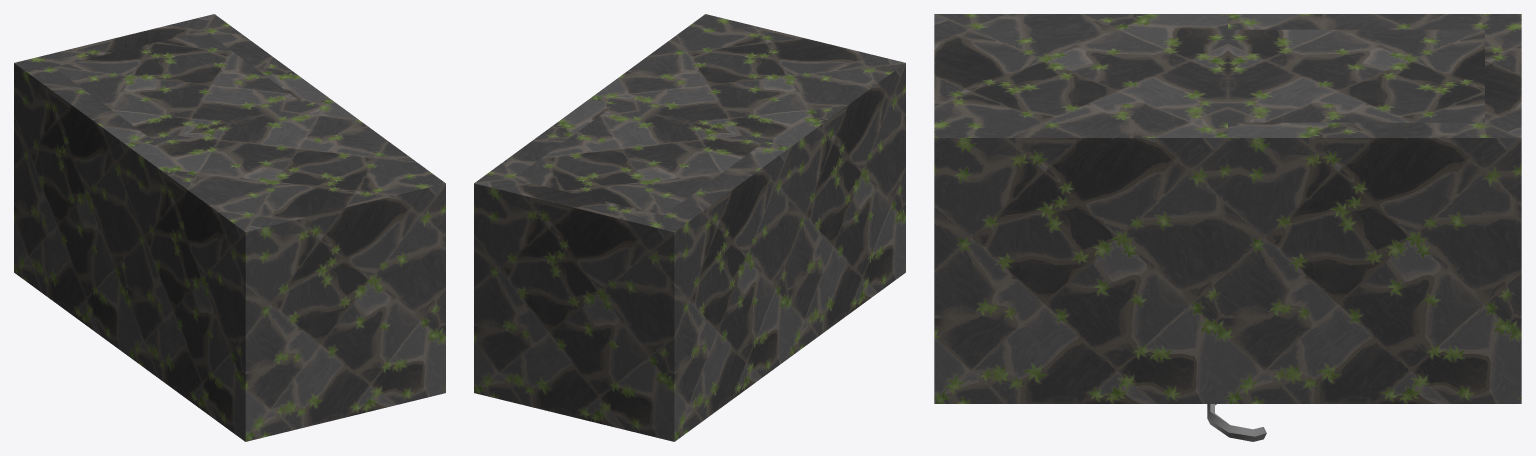
File: Trap_02_big.fbx
3 renders of one model, left to right at view 1: azimuth 30°, elevation 25°; view 2: azimuth 150°, elevation 25°; view 3: azimuth 270°, elevation 25°, orthographic. The views are drawn at different scales.
Parts seen in each view (by area): view 1: Object091, Cube_04_028, Cube_04_029, Cube_03_033, Cube_03_036, Cube_01_038, Cube_01_045, Cube_03_031, Cube_03_032, Cube_03_039, Cube_01_046, Cube_01_050 (+9 smaller); view 2: Object091, Cube_04_032, Cube_04_033, Cube_03_040, Cube_03_043, Cube_01_046, Cube_01_050, Cube_03_038, Cube_03_039, Cube_03_032, Cube_01_038, Cube_01_045 (+9 smaller); view 3: Object091, Cube_04_027, Cube_04_030, Cube_04_031, Cube_04_034, Cube_02_038, Cube_02_041, Cube_02_042, Cube_02_045, Cube_01_041, Cube_01_048, Cube_02_040 (+6 smaller).
Boxes of the visible parts, <box> form: Object091: <box>54,30,405,215</box>; Cube_04_028: <box>345,183,445,312</box>; Cube_04_029: <box>345,288,445,417</box>; Cube_03_033: <box>245,208,345,336</box>; Cube_03_036: <box>245,312,345,441</box>; Cube_01_038: <box>129,252,187,399</box>; Cube_01_045: <box>129,148,187,294</box>; Cube_03_031: <box>187,190,245,336</box>; Cube_03_032: <box>187,295,245,441</box>; Cube_03_039: <box>14,168,71,314</box>; Cube_01_046: <box>72,210,129,356</box>; Cube_01_050: <box>72,105,129,251</box>; Object091: <box>514,30,865,215</box>; Cube_04_032: <box>474,183,574,312</box>; Cube_04_033: <box>474,288,574,417</box>; Cube_03_040: <box>574,208,674,336</box>; Cube_03_043: <box>574,312,674,441</box>; Cube_01_046: <box>732,252,790,399</box>; Cube_01_050: <box>732,148,790,294</box>; Cube_03_038: <box>674,190,732,336</box>; Cube_03_039: <box>674,295,732,441</box>; Cube_03_032: <box>848,168,905,314</box>; Cube_01_038: <box>790,210,847,356</box>; Cube_01_045: <box>790,105,847,251</box>; Object091: <box>971,29,1484,122</box>; Cube_04_027: <box>934,271,1081,403</box>; Cube_04_030: <box>934,138,1081,270</box>; Cube_04_031: <box>1374,271,1521,403</box>; Cube_04_034: <box>1374,138,1521,270</box>; Cube_02_038: <box>1081,138,1227,270</box>; Cube_02_041: <box>1081,271,1227,403</box>; Cube_02_042: <box>1228,138,1374,270</box>; Cube_02_045: <box>1228,271,1374,403</box>; Cube_01_041: <box>934,14,1081,75</box>; Cube_01_048: <box>1374,14,1521,75</box>; Cube_02_040: <box>934,76,1081,137</box>.
Bounding box in the file's own units: 800 × 1600 × 1093.
